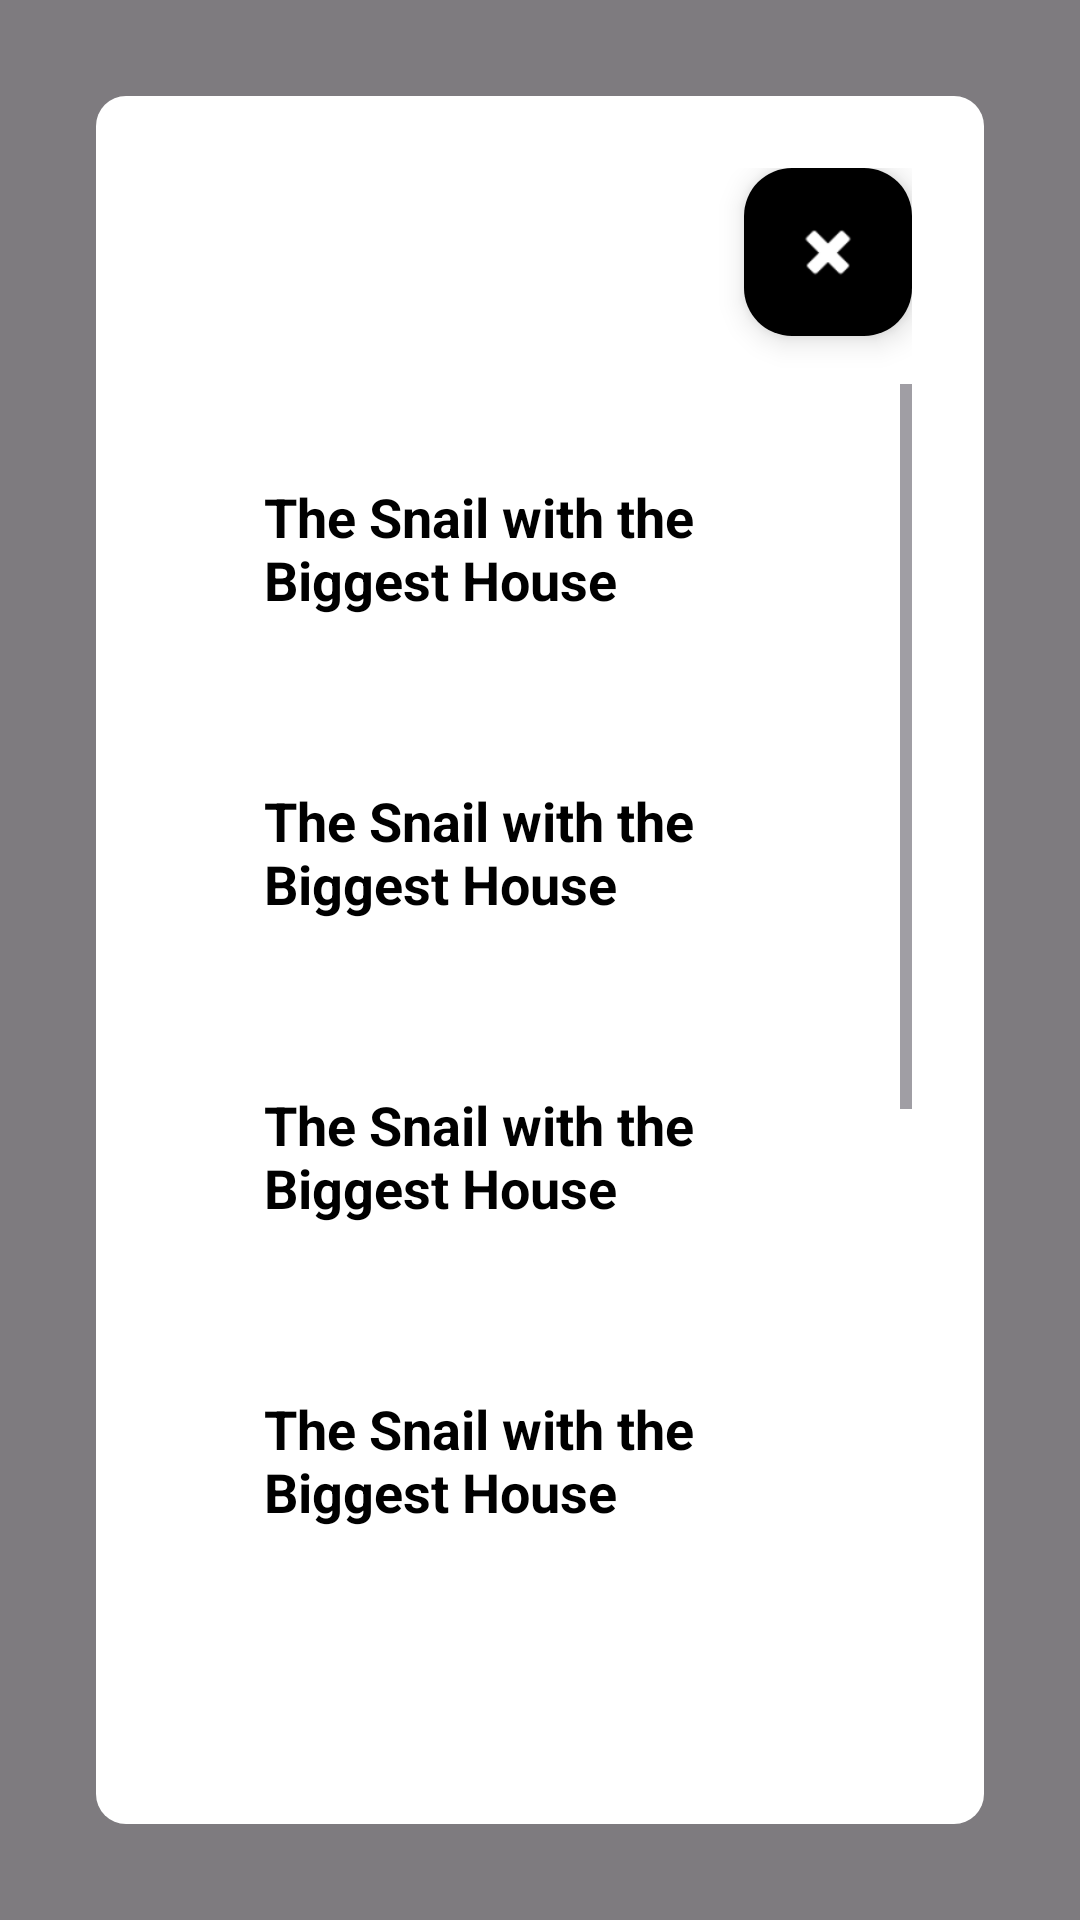

Icons on this 1080 x 1920 Android screen, each with its box as Rect(x1, y1, x2, y2):
delete: Rect(744, 168, 912, 336)
